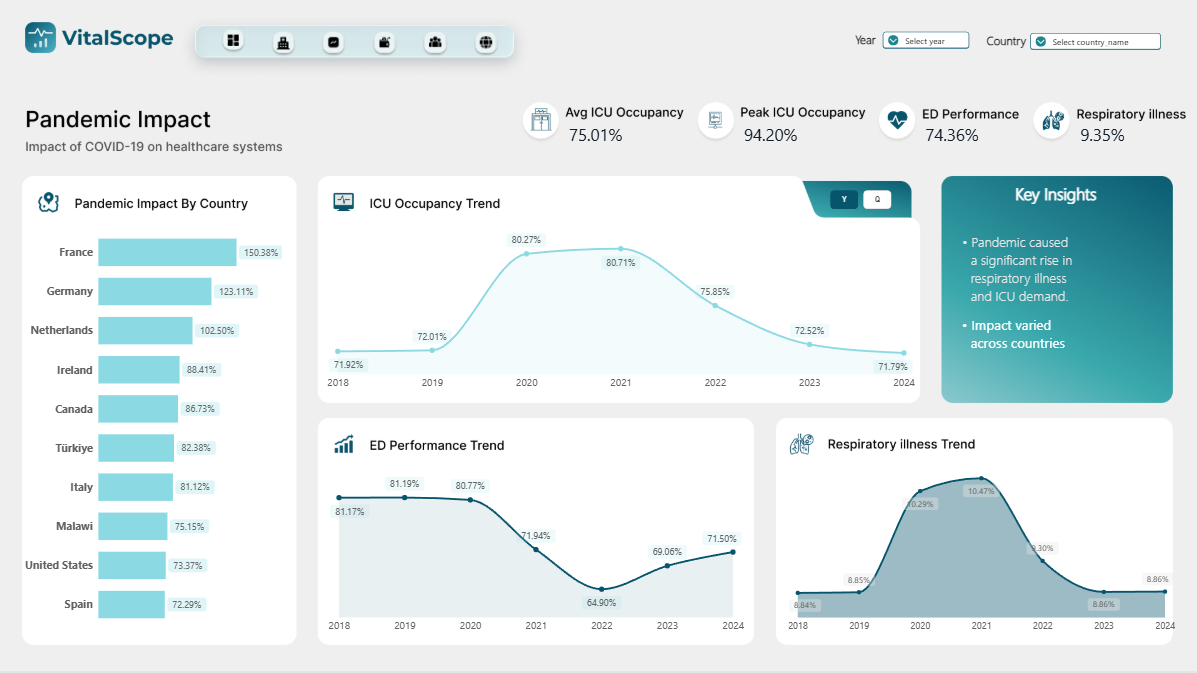

This screenshot's page, from the dashboard's own definition file:
{"tool":"powerbi","page":{"name":"Pandemic Impact","canvas":[1920,1080],"ordinal":1},"visuals":[{"type":"listSlicer","fields":{"Values":["dim_country.country_name"]},"box":[1634.7,40.8,240.8,71],"z":0},{"type":"textbox","box":[1580,53.3,70,25],"z":1000},{"type":"textbox","box":[1370.2,52.6,57.9,38.6],"z":2000},{"type":"listSlicer","fields":{"Values":["dim_date.year"]},"box":[1398.2,38.6,170.2,70.2],"z":3000},{"type":"textbox","box":[1525,335.7,278.6,312.5],"z":4000},{"type":"lineChart","fields":{"Category":["dim_date.year"],"Y":["_Measures.ICU Occupancy"]},"box":[508.6,352.8,973.9,294.3],"z":5000},{"type":"advancedSlicerVisual","fields":{"Values":["trends.trends"]},"box":[1330,306,98,30],"z":6000},{"type":"clusteredBarChart","fields":{"Category":["dim_country.country_name"],"Y":["_Measures.Pandemic Impact %"]},"box":[23.3,336.7,445,696.7],"z":7000},{"type":"lineChart","fields":{"Category":["dim_date.year"],"Y":["_Measures.ED Performance"]},"box":[510,740,698.3,295],"z":8000},{"type":"areaChart","fields":{"Category":["dim_date.year"],"Y":["_Measures.Respiratory Illness Rate %"]},"box":[1245,740,651.7,293.3],"z":9000},{"type":"cardVisual","fields":{"Data":["_Measures.Average ICU Occupancy"]},"box":[895,195,148.3,40],"z":10000},{"type":"cardVisual","fields":{"Data":["_Measures.Peak ICU Occupancy"]},"box":[1175,195,148.3,40],"z":11000},{"type":"cardVisual","fields":{"Data":["_Measures.ED Performance"]},"box":[1466.7,195,148.3,40],"z":12000},{"type":"cardVisual","fields":{"Data":["_Measures.Respiratory Illness Rate %"]},"box":[1713.3,195,148.3,40],"z":13000},{"type":"textbox","box":[1626.8,291.1,189.3,114.3],"z":14000},{"type":"actionButton","box":[358.8,48.9,33.8,33.1],"z":15000},{"type":"actionButton","box":[438.9,51,34,34],"z":16000},{"type":"actionButton","box":[518.9,51,34,34],"z":17000},{"type":"actionButton","box":[600.6,51,34,34],"z":18000},{"type":"actionButton","box":[680.5,51,35.7,34],"z":19000},{"type":"actionButton","box":[762.2,51,34,34],"z":20000}]}

Visuals, with their boxes on the page's 1920x1080 design canvas (x1, y1, x2, y2). These are canvas units, not pixel positions in the 1197x673 screenshot, which may show the page scaled, cropped or inside an application window:
listSlicer - dim_country.country_name: crop(1635, 41, 1876, 112)
textbox: crop(1580, 53, 1650, 78)
textbox: crop(1370, 53, 1428, 91)
listSlicer - dim_date.year: crop(1398, 39, 1568, 109)
textbox: crop(1525, 336, 1804, 648)
lineChart - dim_date.year x _Measures.ICU Occupancy: crop(509, 353, 1482, 647)
advancedSlicerVisual - trends.trends: crop(1330, 306, 1428, 336)
clusteredBarChart - dim_country.country_name x _Measures.Pandemic Impact %: crop(23, 337, 468, 1033)
lineChart - dim_date.year x _Measures.ED Performance: crop(510, 740, 1208, 1035)
areaChart - dim_date.year x _Measures.Respiratory Illness Rate %: crop(1245, 740, 1897, 1033)
cardVisual - _Measures.Average ICU Occupancy: crop(895, 195, 1043, 235)
cardVisual - _Measures.Peak ICU Occupancy: crop(1175, 195, 1323, 235)
cardVisual - _Measures.ED Performance: crop(1467, 195, 1615, 235)
cardVisual - _Measures.Respiratory Illness Rate %: crop(1713, 195, 1862, 235)
textbox: crop(1627, 291, 1816, 405)
actionButton: crop(359, 49, 393, 82)
actionButton: crop(439, 51, 473, 85)
actionButton: crop(519, 51, 553, 85)
actionButton: crop(601, 51, 635, 85)
actionButton: crop(680, 51, 716, 85)
actionButton: crop(762, 51, 796, 85)
